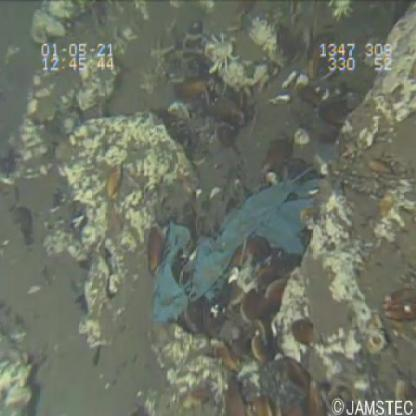Rác: (134, 159, 336, 326)
